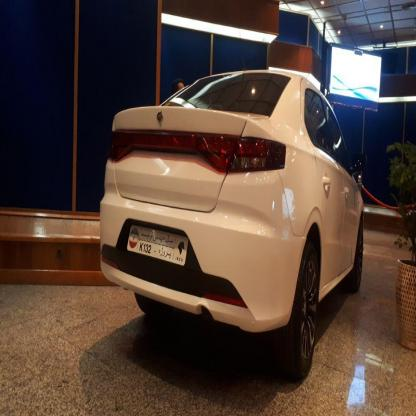Car: (103, 68, 364, 387)
